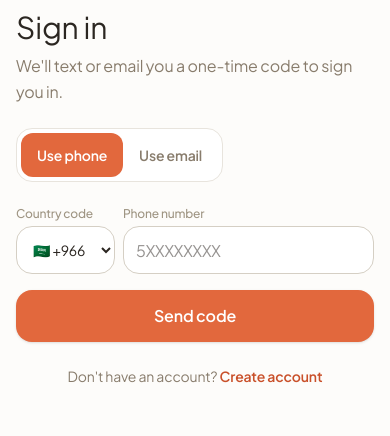
Test: LoginPage — edge cases (T-052) › shows error when email lacks @ symbol
Click the button "Use email": (171,155) [123,133,218,177]
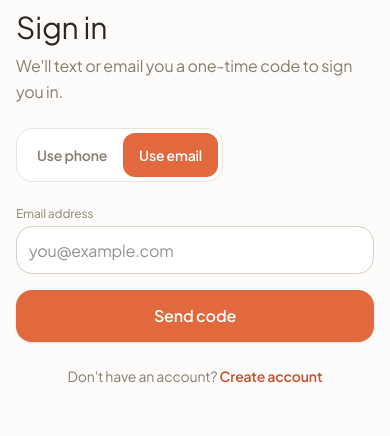
In the field labelled "Email address": (195,250) [16,226,374,274], type "notanemail"
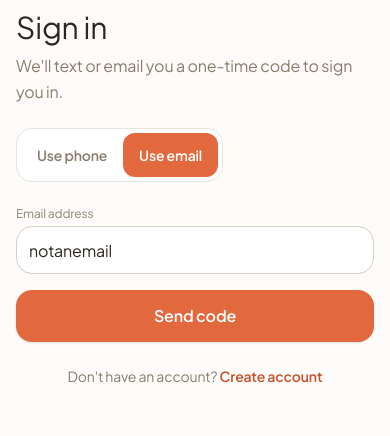
Click the button "Send code": (195,316) [16,290,374,342]
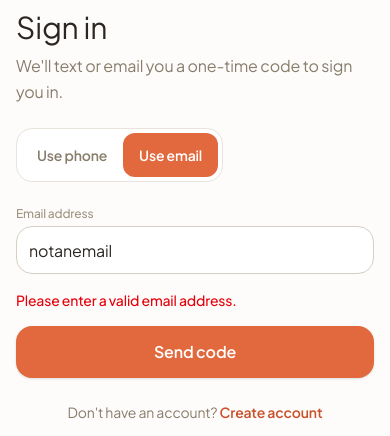
Now the message shows "email", box [16,291,236,309]
